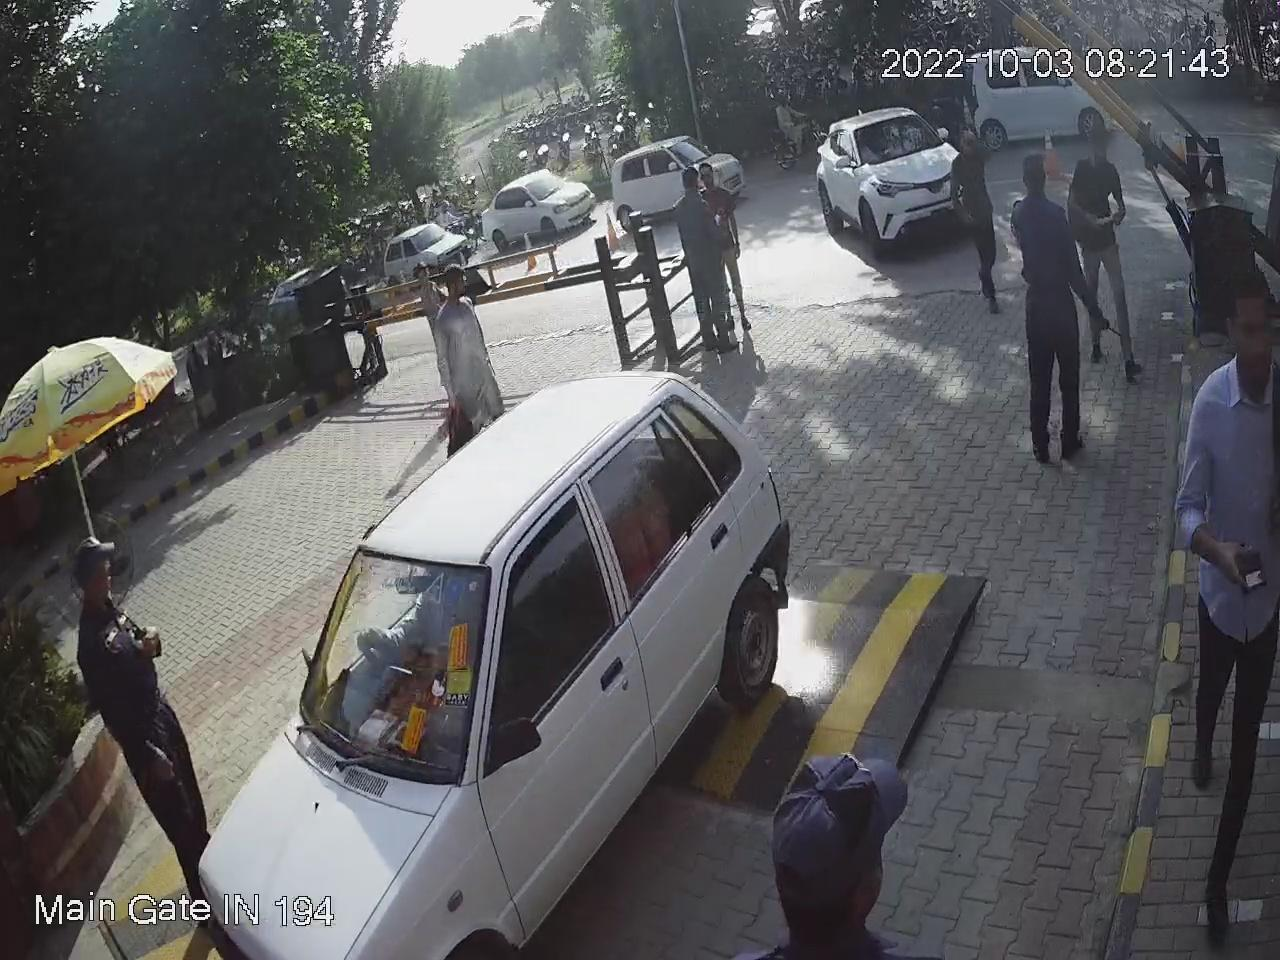windshield: (285, 543, 511, 790)
